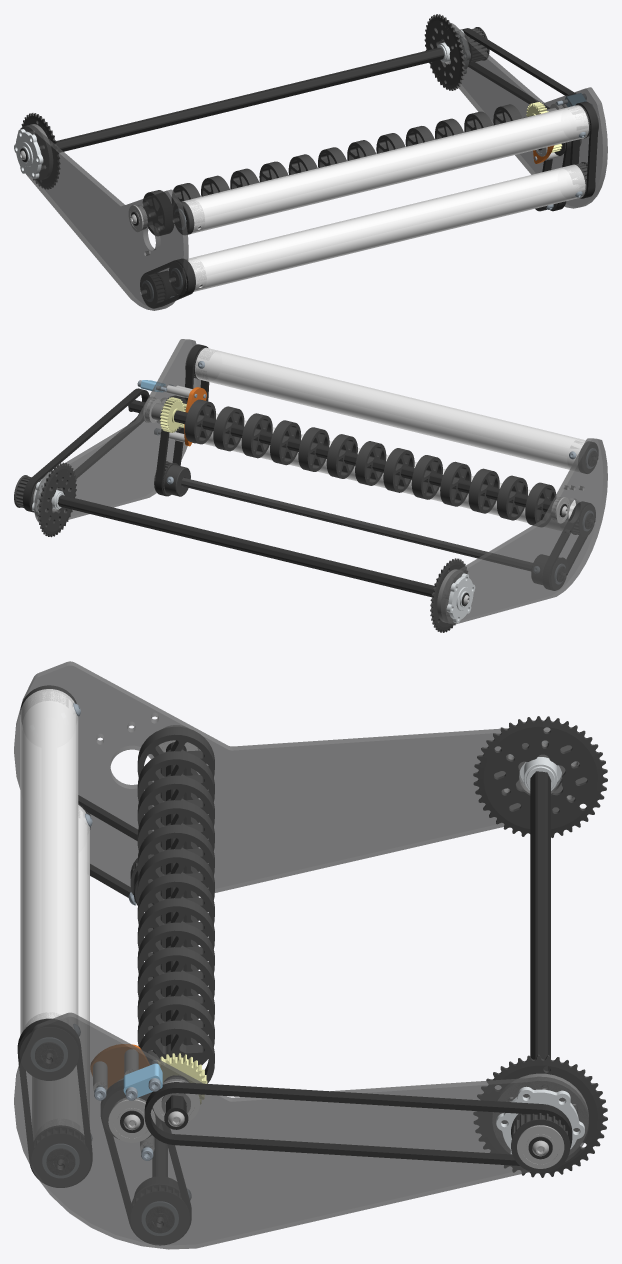
3 renders of one model, top to bottom at view 1: azimuth 30°, elevation 25°; view 2: azimuth 150°, elevation 25°; view 3: azimuth 270°, elevation 25°, orthographic. The views are drawn at different scales.
Visible parts, largest first — view 1: Tube (×2), Part 1, 2" 1/2" Hex Bore Flex Wheel (WCP-0133) (×13), Part 2, Shaft, 42t Aluminum Plate Sprocket (#25 Chain, SplineXL Bore) (×2), 55t 5mm Belt (×2), Roller Hub (×3), 120t 5mm Belt, am-4124 500 Hex Hub (×2), Part 7, 24T HTD Pulley 20mm Wide; view 2: Tube (×2), 2" 1/2" Hex Bore Flex Wheel (WCP-0133) (×13), Part 1, Part 2, Shaft (×2), Hex Shaft, 42t Aluminum Plate Sprocket (#25 Chain, SplineXL Bore) (×2), 55t 5mm Belt (×3), 120t 5mm Belt, am-4124 500 Hex Hub (×2), Roller Hub (×2), Part 7 (+1 smaller); view 3: Part 2, Part 1, 2" 1/2" Hex Bore Flex Wheel (WCP-0133) (×13), Tube (×2), 42t Aluminum Plate Sprocket (#25 Chain, SplineXL Bore) (×2), 120t 5mm Belt, Shaft (×2), Roller Hub (×3), 55t 5mm Belt (×3), Part 7 (×2), am-4124 500 Hex Hub (×2), 1/2" ThunderHex x 1-1/8" OD (Flanged) (×2) (+4 smaller).
Boxes of the visible parts, box(x1,y1,x2,y2) form: Tube (×2): box(182, 105, 588, 291); Part 1: box(17, 125, 188, 310); 2" 1/2" Hex Bore Flex Wheel (WCP-0133) (×13): box(143, 104, 522, 235); Part 2: box(444, 22, 607, 208); Shaft: box(19, 47, 444, 161); 42t Aluminum Plate Sprocket (#25 Chain, SplineXL Bore) (×2): box(21, 14, 464, 188); 55t 5mm Belt (×2): box(145, 101, 598, 308); Roller Hub (×3): box(140, 200, 205, 307); 120t 5mm Belt: box(460, 28, 575, 108); am-4124 500 Hex Hub (×2): box(14, 26, 470, 178); Part 7: box(24, 124, 52, 179); 24T HTD Pulley 20mm Wide: box(464, 27, 489, 63); Tube (×2): box(195, 347, 586, 533); 2" 1/2" Hex Bore Flex Wheel (WCP-0133) (×13): box(185, 399, 556, 526); Part 1: box(441, 438, 607, 624); Part 2: box(34, 339, 200, 522); Shaft (×2): box(57, 400, 567, 606); Hex Shaft: box(181, 477, 563, 578); 42t Aluminum Plate Sprocket (#25 Chain, SplineXL Bore) (×2): box(37, 462, 467, 632); 55t 5mm Belt (×3): box(155, 344, 590, 590); 120t 5mm Belt: box(22, 388, 149, 512); am-4124 500 Hex Hub (×2): box(32, 472, 475, 623); Roller Hub (×2): box(154, 460, 567, 589); Part 7: box(437, 569, 464, 623); Part 2: box(14, 1012, 588, 1249); Part 1: box(14, 661, 576, 896); 2" 1/2" Hex Bore Flex Wheel (WCP-0133) (×13): box(137, 726, 214, 1083); Tube (×2): box(20, 689, 89, 1139); 42t Aluminum Plate Sprocket (#25 Chain, SplineXL Bore) (×2): box(473, 716, 607, 1177); 120t 5mm Belt: box(144, 1082, 572, 1165); Shaft (×2): box(164, 742, 552, 1159); Roller Hub (×3): box(19, 1013, 189, 1244); 55t 5mm Belt (×3): box(17, 795, 191, 1245); Part 7 (×2): box(492, 729, 588, 1155); am-4124 500 Hex Hub (×2): box(496, 740, 584, 1154); 1/2" ThunderHex x 1-1/8" OD (Flanged) (×2): box(108, 1097, 564, 1168).
Bounding box in the file's own units: 0.6052 × 0.1713 × 0.3904.
